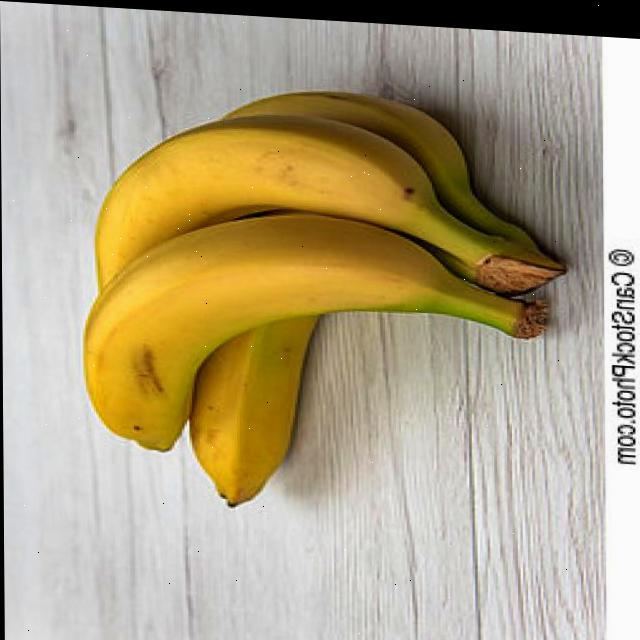banana: (72, 70, 576, 531), (69, 193, 560, 480)
